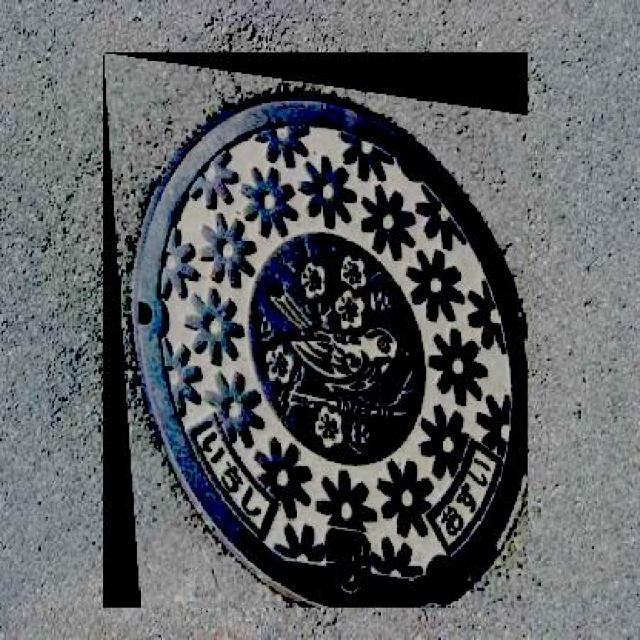Manhole: (103, 52, 528, 608)
